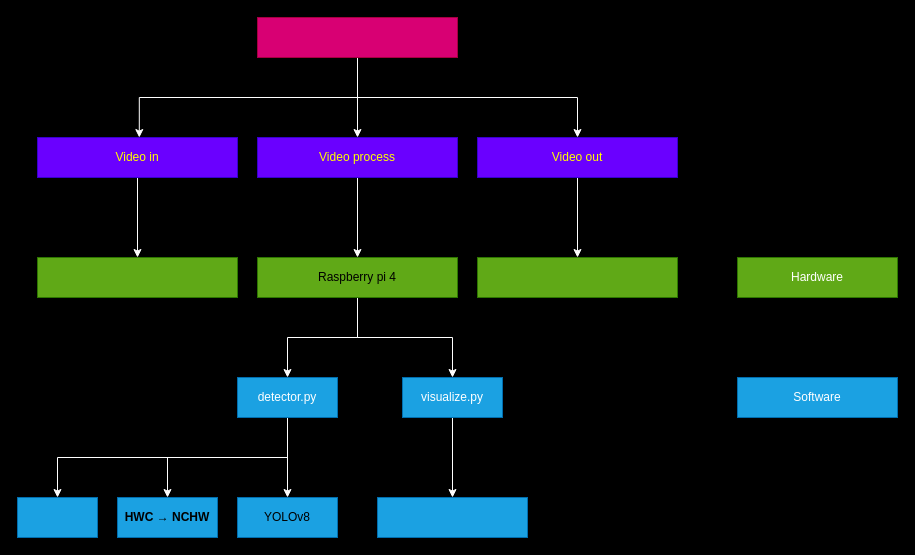
The diagram is 915 pixels wide and 555 high, and some of its shapes have lost their labels. Here are the shapes that lost their labels. From the top down, the centre of each, then its label:
(x=357, y=37): Video Fire & Smoke Detection
(x=137, y=277): 輸入mp4格式影片
(x=577, y=277): 輸出mp4格式影片
(x=57, y=517): Letterbox
(x=452, y=517): Bounding box drawing
